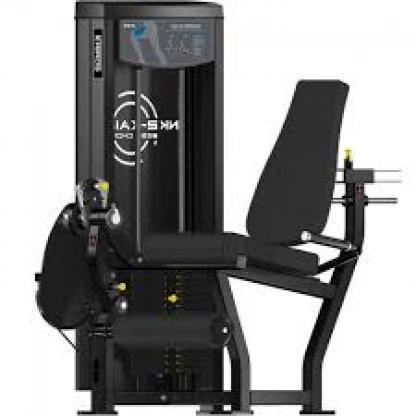leg extension: (27, 1, 416, 416)
